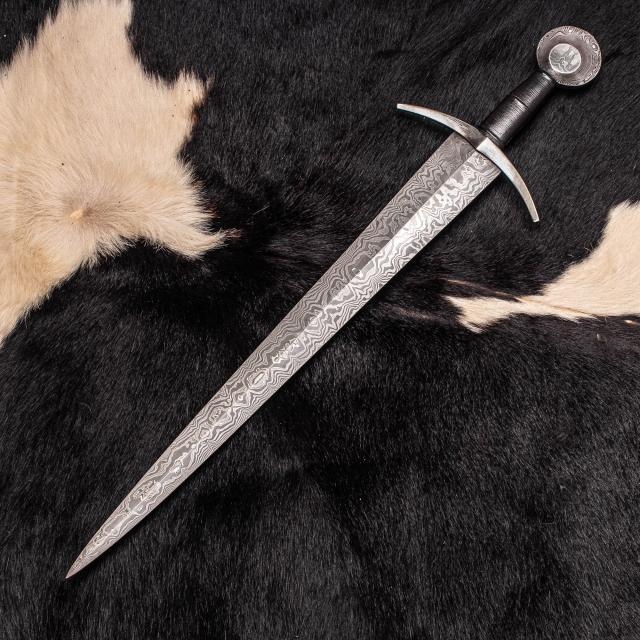sword: (34, 18, 609, 622)
